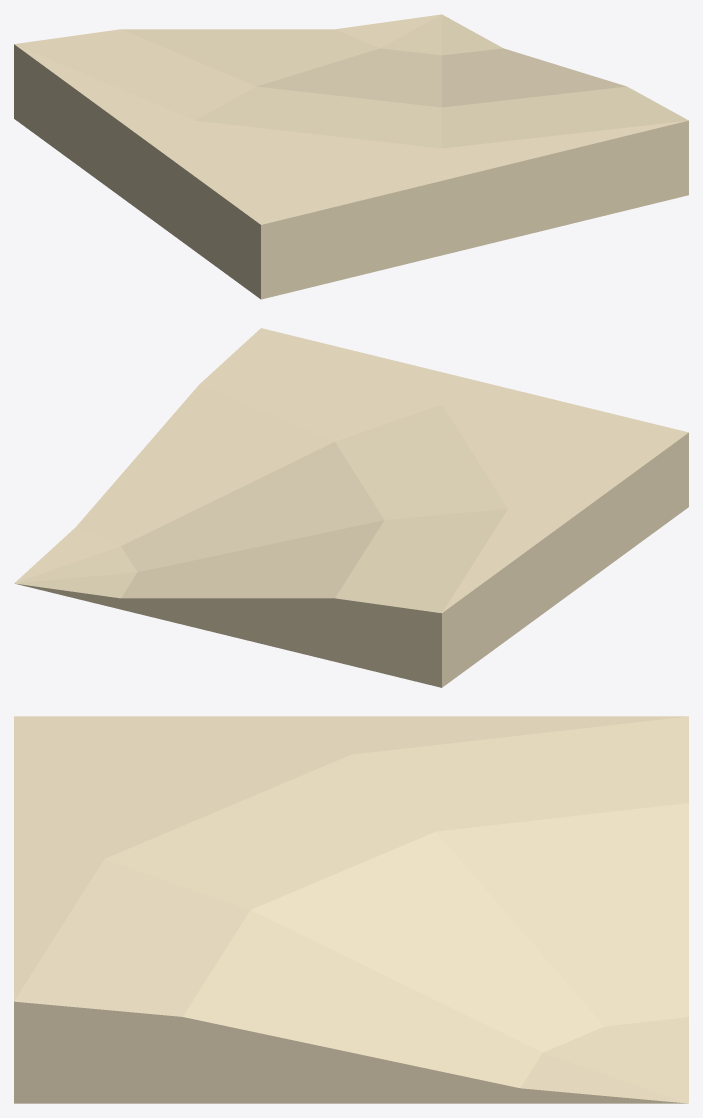
Rendered from Sand_Corner_Inner_3x3.obj.
The picture shows the model from 3 angles, top to bottom: view 1: azimuth 30°, elevation 25°; view 2: azimuth 150°, elevation 25°; view 3: azimuth 270°, elevation 25°; orthographic projection. The views are drawn at different scales.
Parts seen in each view (by area): view 1: object1; view 2: object1; view 3: object1.
Boxes of the visible parts, <box> form: object1: <box>14,14,688,299</box>; object1: <box>14,328,688,687</box>; object1: <box>14,716,688,1103</box>.
Bounding box in the file's own units: 3 × 0.5 × 3.
